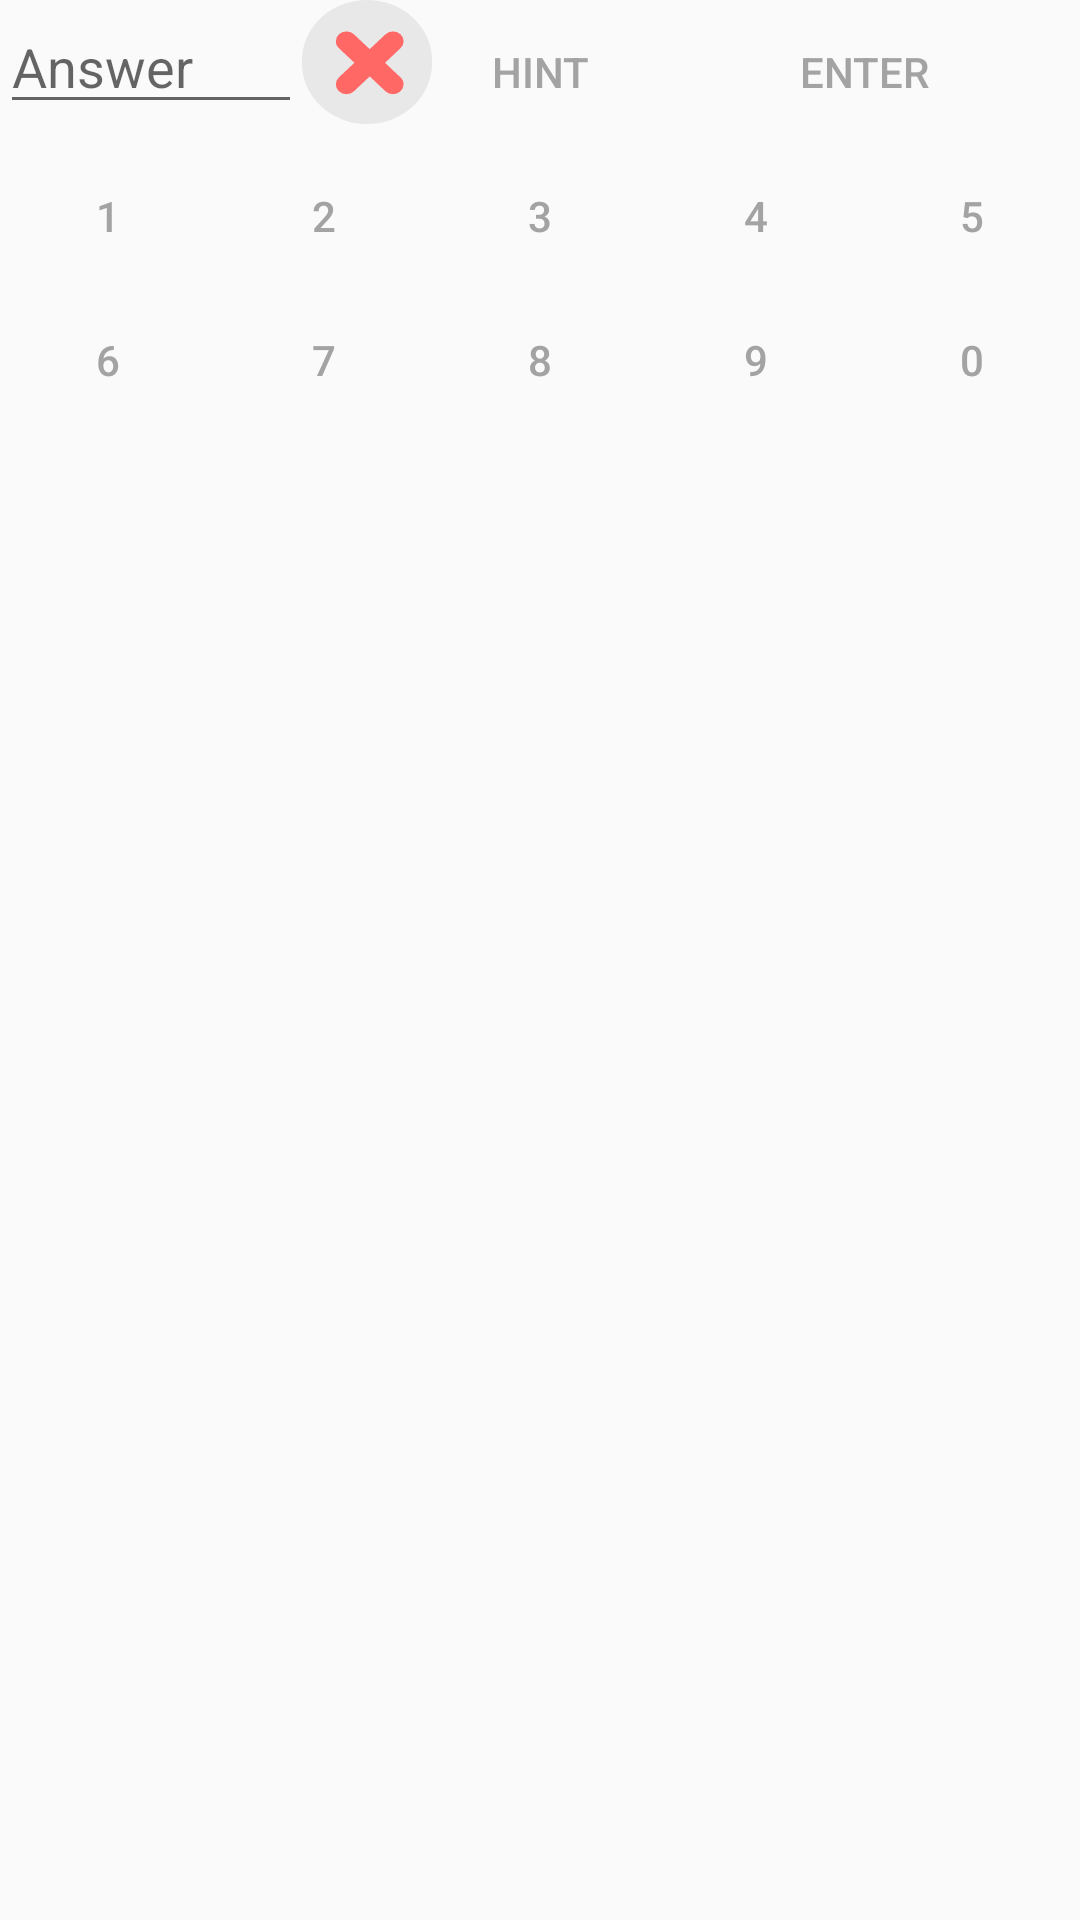

Icon click points for this 1080w x 1920h phone screenshot, format point (x, y):
exit: point (369, 63)
